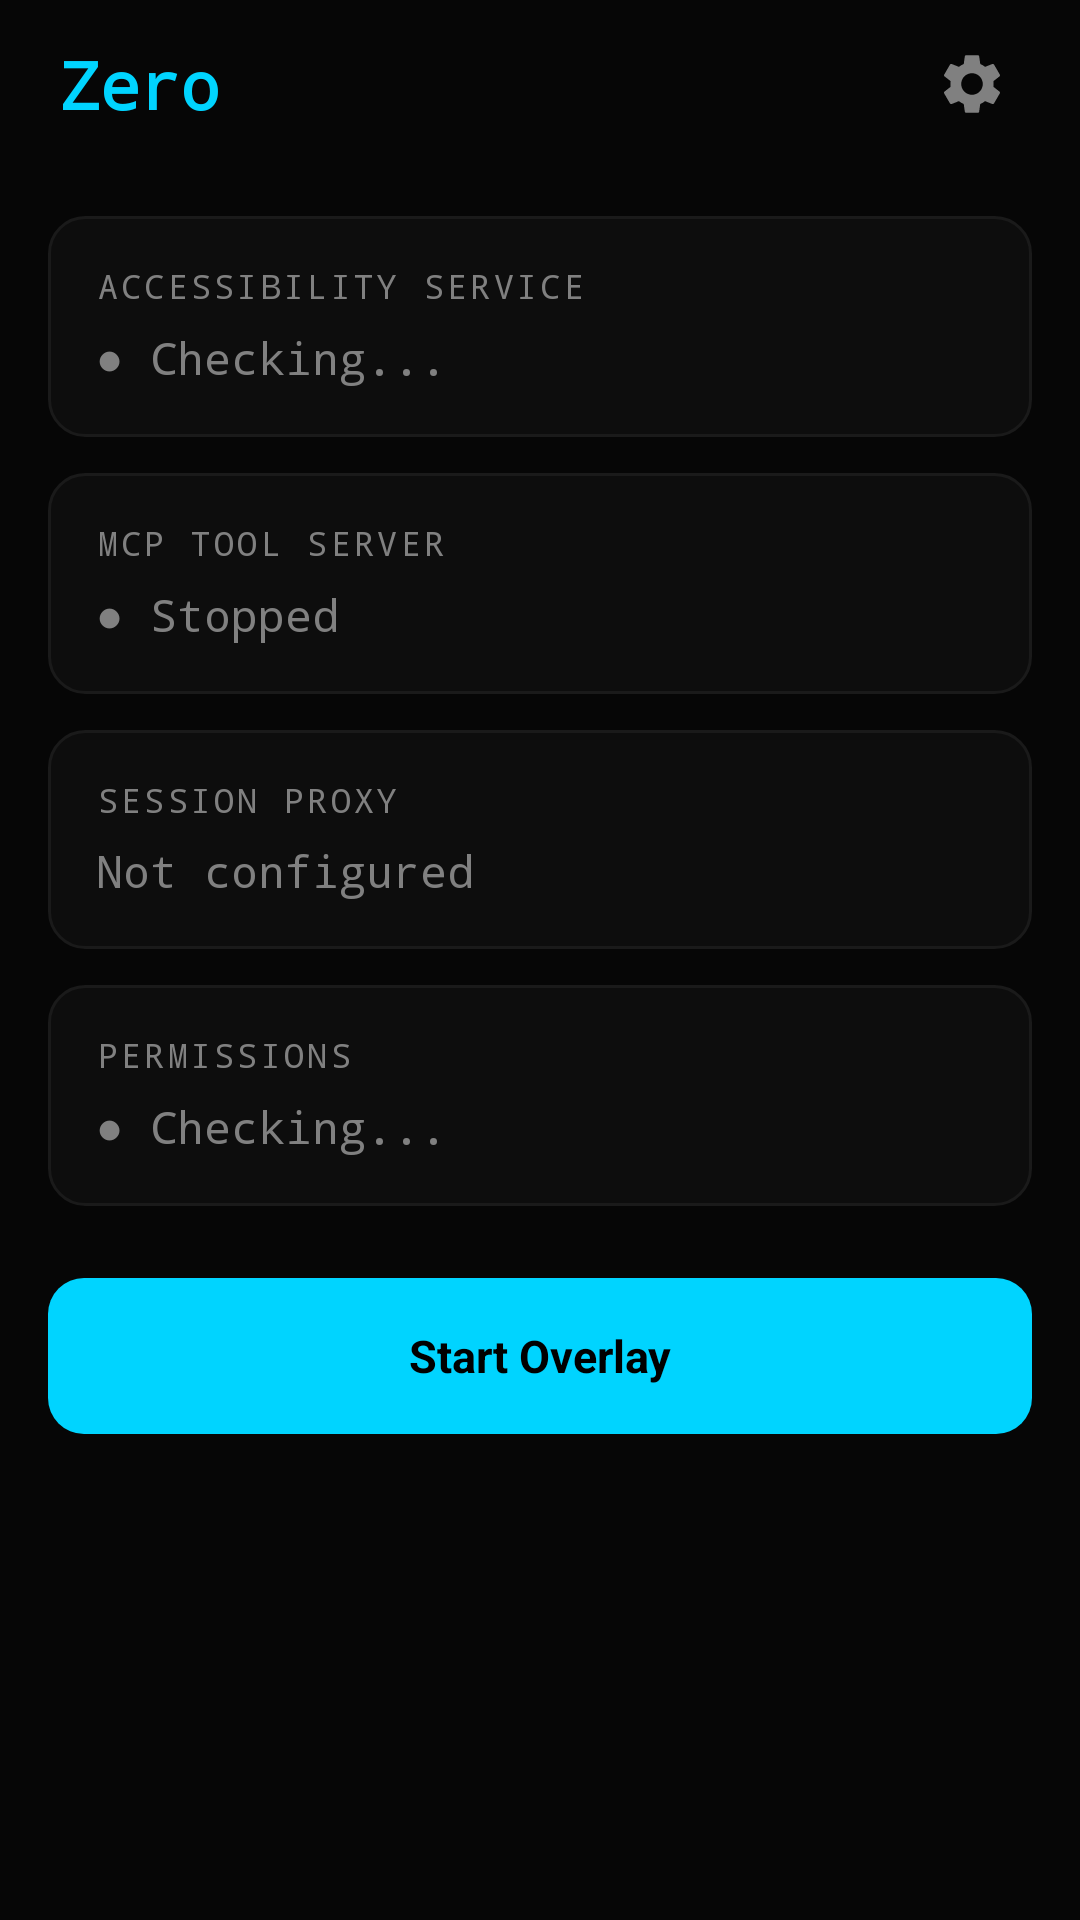

Icons on this 1080*1920 Android screen, each with its box as bbox(x1, y1, x2, y2):
Settings: bbox(944, 55, 1000, 113)
